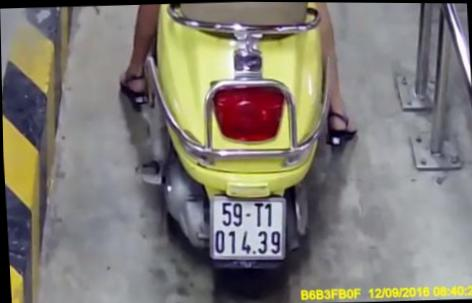LP: (205, 190, 290, 263)
